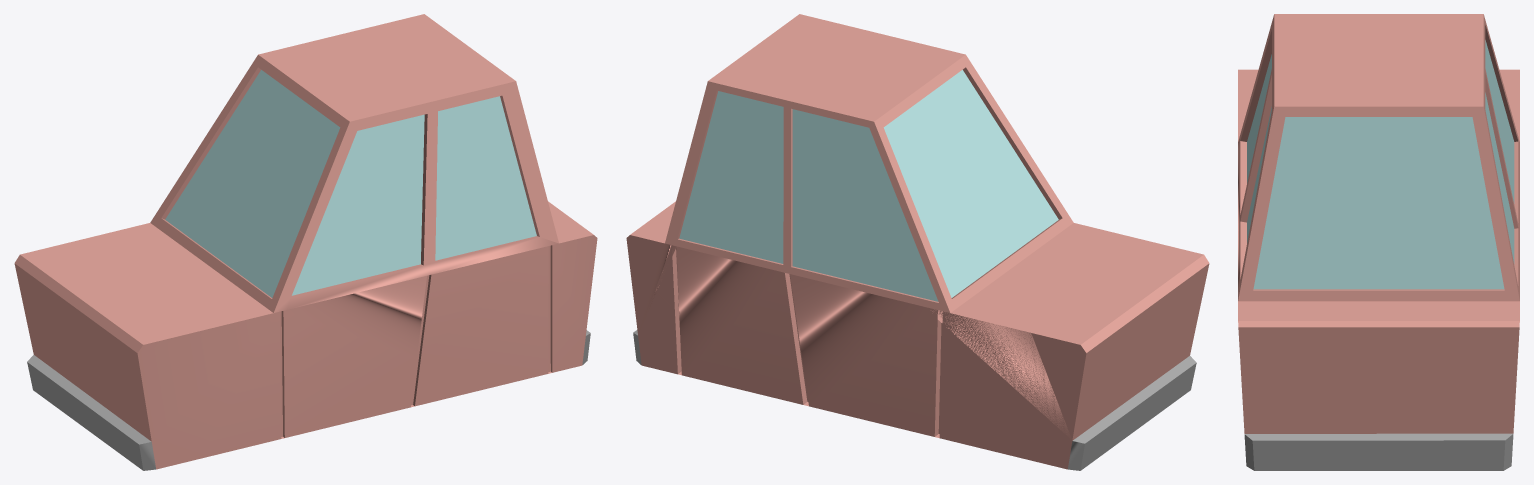
Rendered from car.dae.
3 views of the same model, side by side, from view 1: azimuth 30°, elevation 25°; view 2: azimuth 150°, elevation 25°; view 3: azimuth 270°, elevation 25° (orthographic). The views are drawn at different scales.
Parts seen in each view (by area): view 1: pCube1; view 2: pCube1; view 3: pCube1.
Part boxes in pixels (x1,y1,x2,y2): pCube1: [14, 14, 597, 470]; pCube1: [626, 14, 1209, 470]; pCube1: [1238, 14, 1519, 470].
Bounding box in the file's own units: 3.49 × 1.62 × 2.1.
